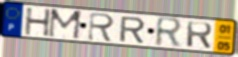H: (24, 7, 53, 37)
M: (46, 8, 85, 41)
R: (154, 16, 185, 50), (86, 11, 117, 44), (186, 20, 214, 50), (118, 16, 147, 44)
